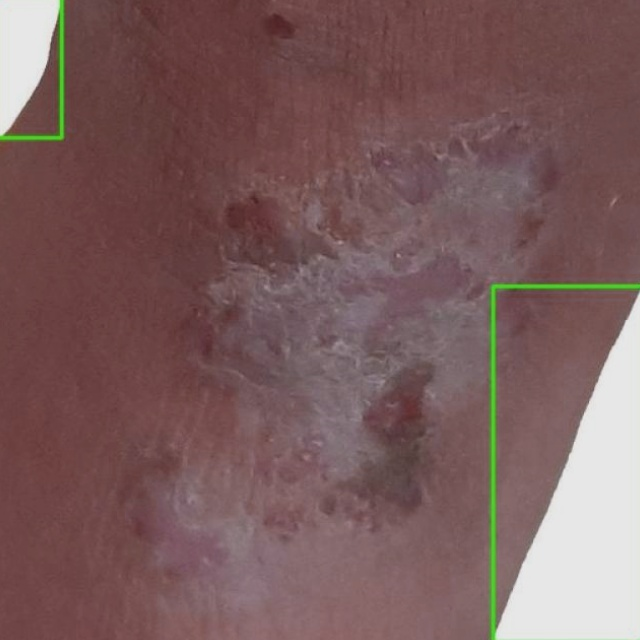Contact Dermatitis: (493, 286, 639, 639), (0, 0, 61, 137)
